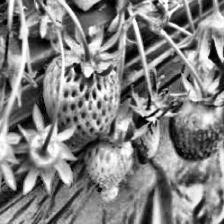Gray Mold: (128, 85, 182, 163)
